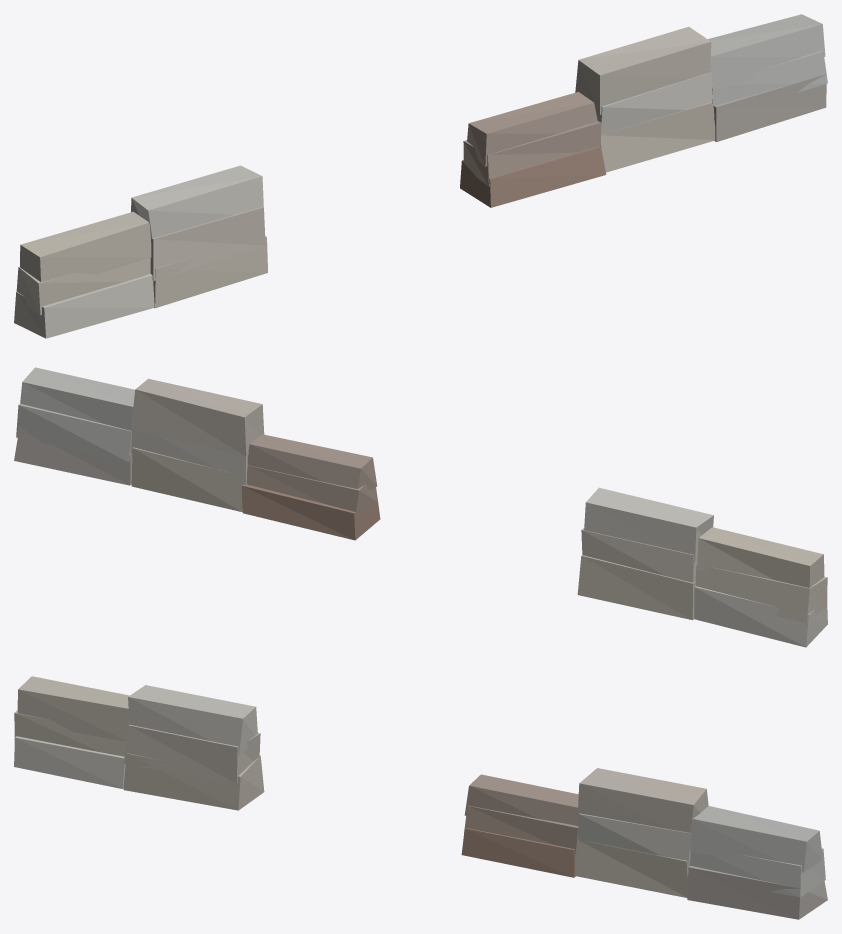
The model's file is farm_8_18_mid.glb.
3 views of the same model, one above another, from view 1: azimuth 30°, elevation 25°; view 2: azimuth 150°, elevation 25°; view 3: azimuth 330°, elevation 25° (orthographic). The views are drawn at different scales.
Parts seen in each view (by area): view 1: geometry_0; view 2: geometry_0; view 3: geometry_0.
Boxes of the visible parts, x1=… form: geometry_0: x1=14, y1=14, x2=827, y2=338; geometry_0: x1=14, y1=367, x2=827, y2=647; geometry_0: x1=14, y1=676, x2=827, y2=919.
Size of the model in its own units: 10.18 by 1.39 by 1.18.
